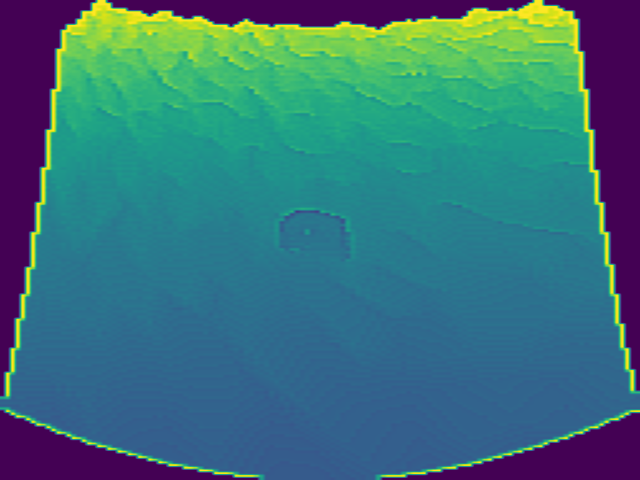car_0198: (275, 208, 352, 267)
